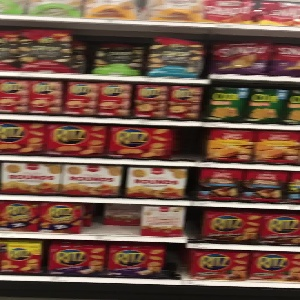void: (84, 206, 138, 236), (170, 127, 207, 164)
